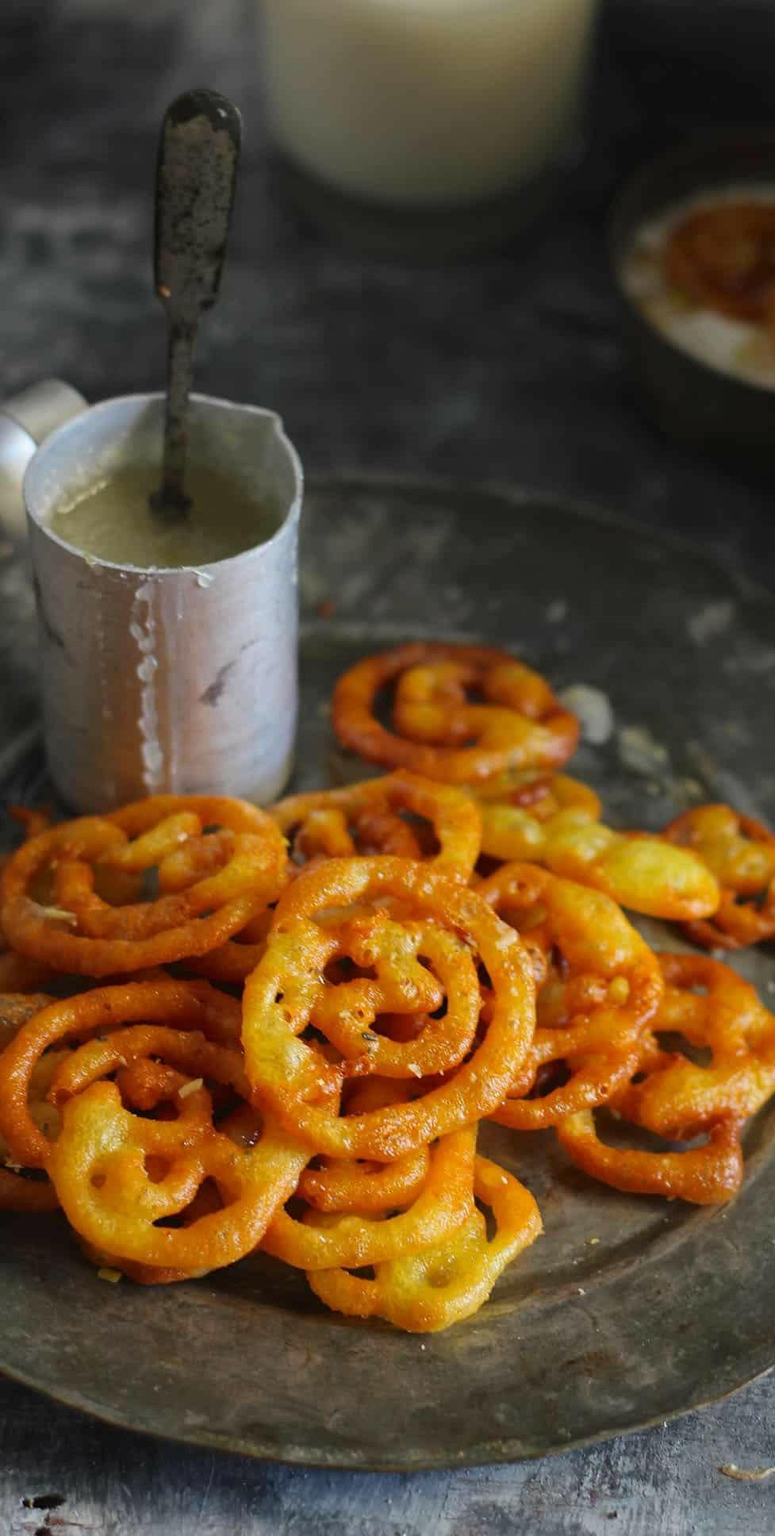Jalebi: (6, 630, 775, 1339)
